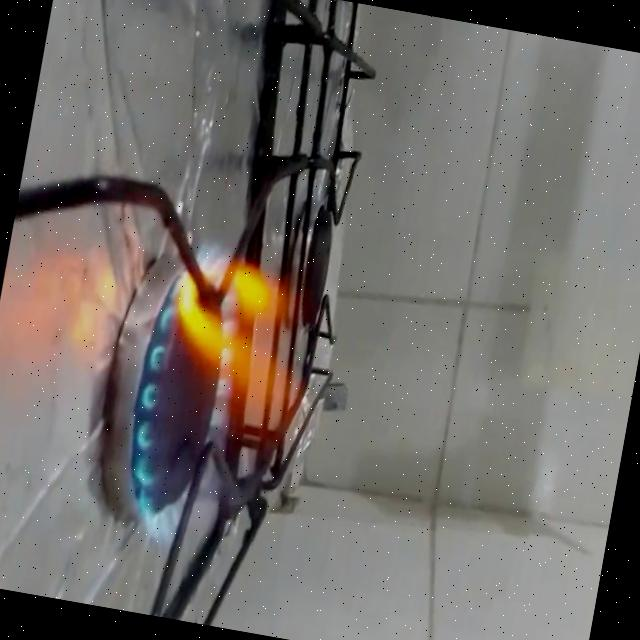fire: (113, 226, 339, 566)
